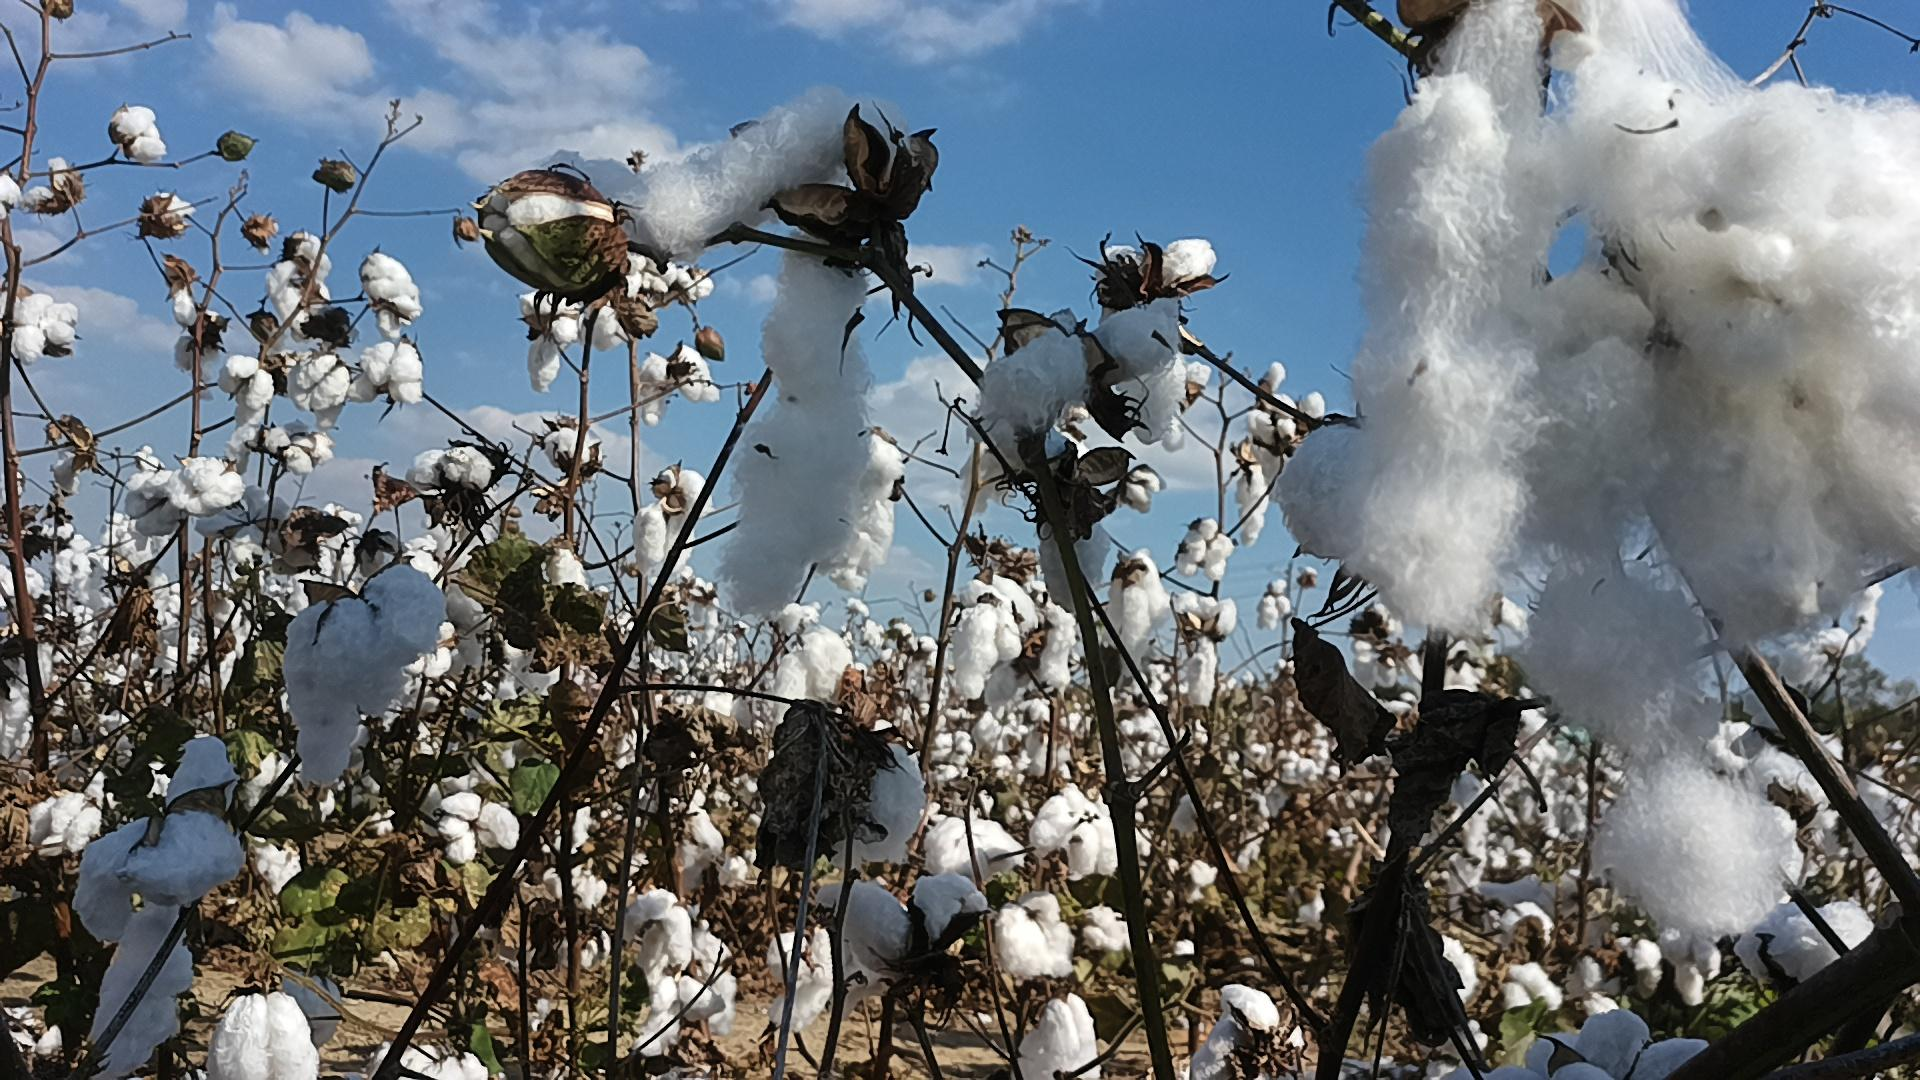cotton_ready: (1356, 0, 1920, 943), (535, 88, 898, 617), (74, 736, 243, 1080), (284, 560, 448, 791), (964, 306, 1188, 469), (1101, 236, 1218, 450), (480, 165, 630, 293), (814, 874, 994, 977), (948, 568, 1077, 708), (1482, 1006, 1713, 1080), (818, 741, 928, 876), (1278, 415, 1374, 559), (1178, 982, 1311, 1080), (204, 988, 323, 1080), (1027, 786, 1135, 878), (1013, 993, 1106, 1080), (993, 893, 1076, 978), (924, 815, 1030, 882), (436, 791, 524, 866), (368, 1040, 496, 1080)
